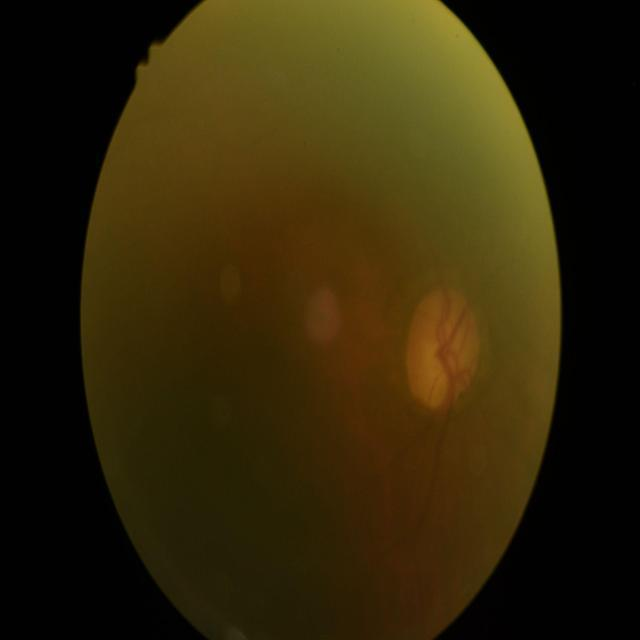cup: (428, 325, 463, 381)
disk: (406, 283, 482, 411)
